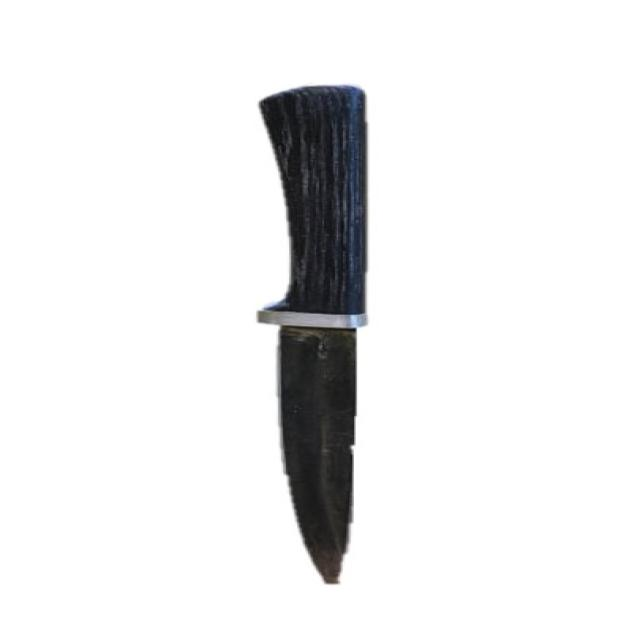knife: (238, 75, 408, 606)
